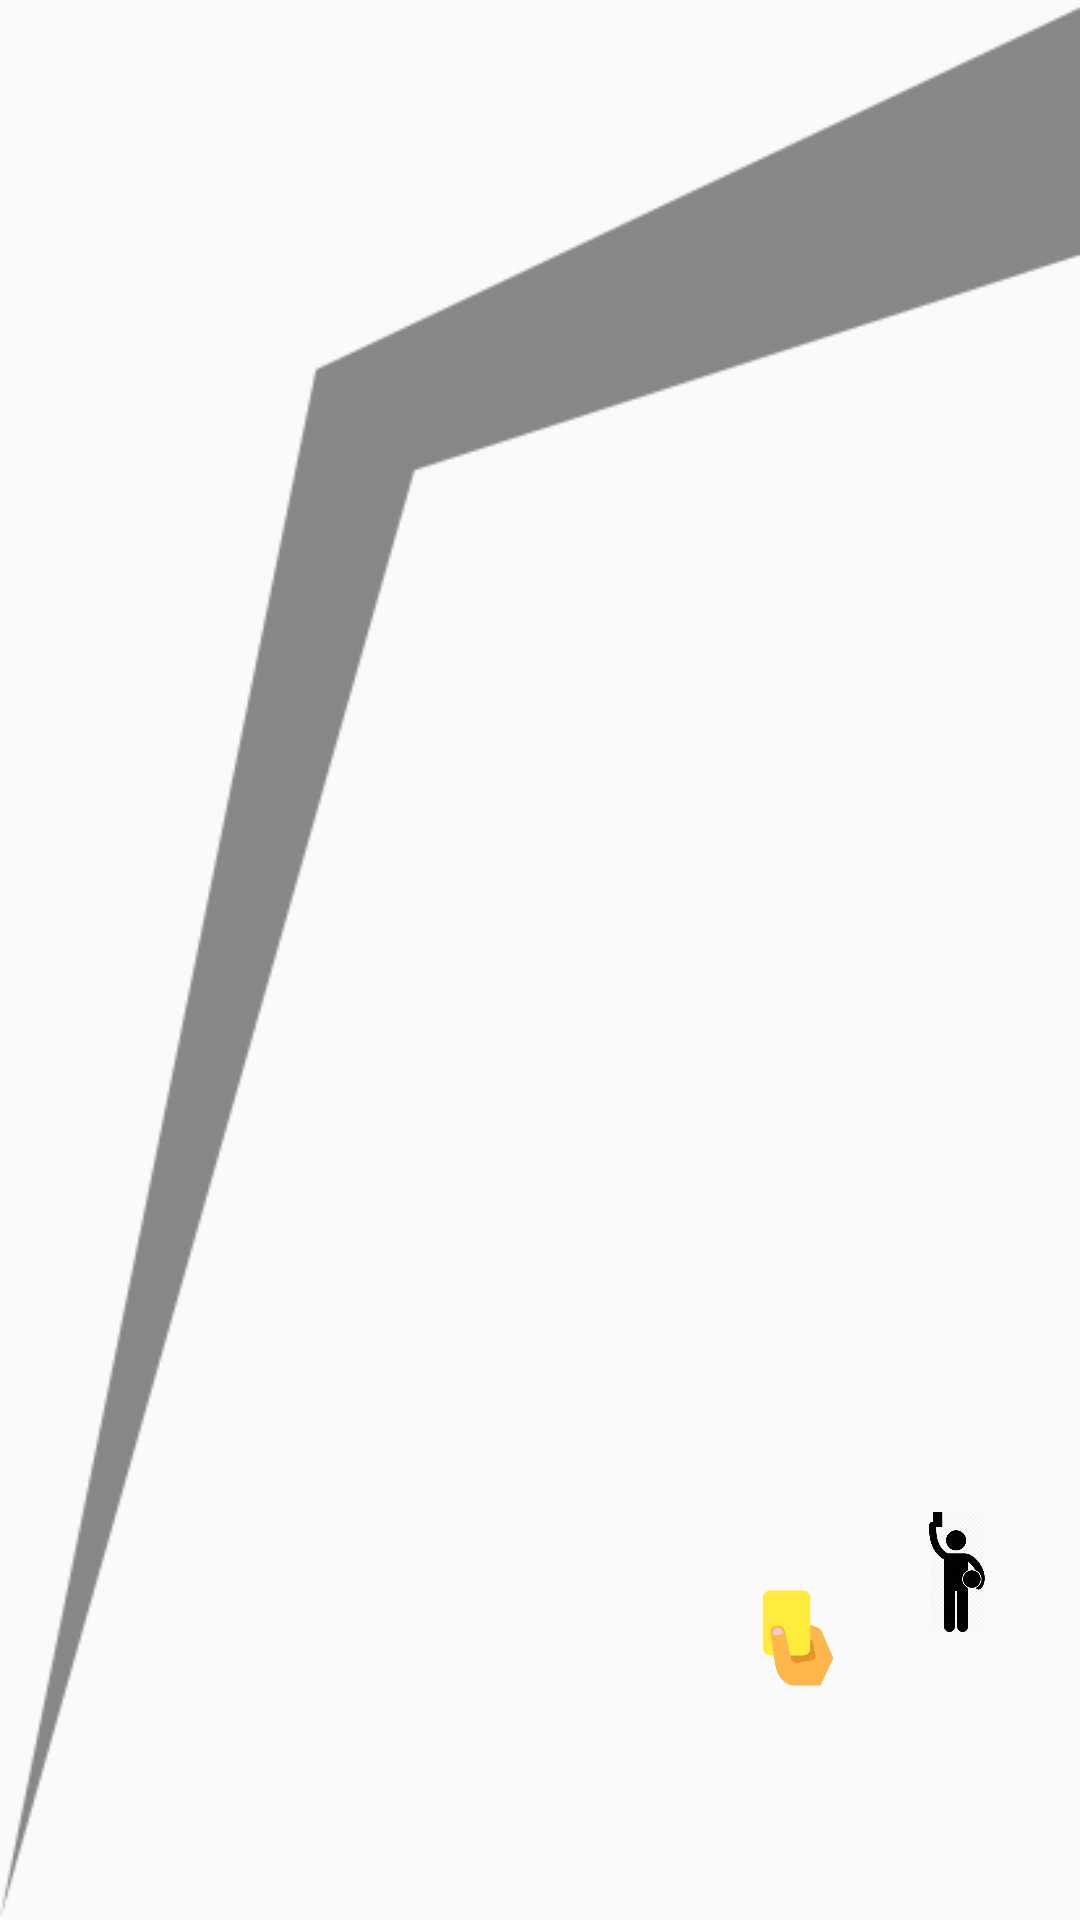

Where to tap for icons on this 1080 × 1920 app screen, as point (x, y):
Team B Foul Button: point (957, 1572)
Team B Yellow Card Button: point (798, 1638)
